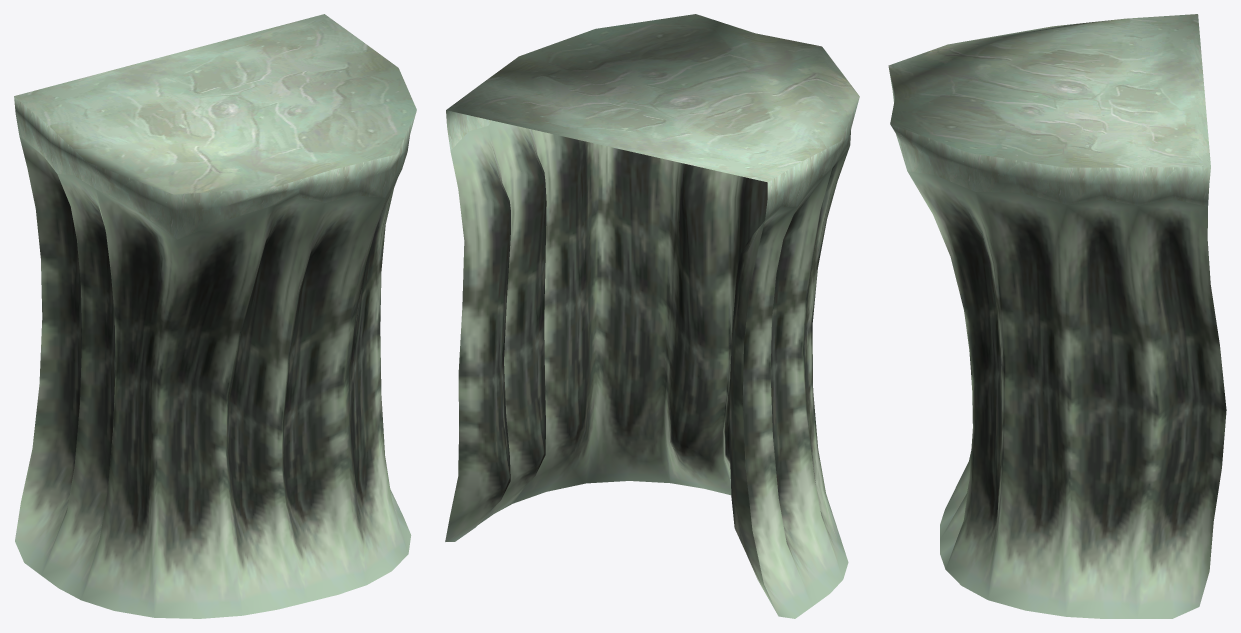
File: TROLLHOLE02_MAINCAVEPLATFORM06B.fbx
3 renders of one model, left to right at view 1: azimuth 30°, elevation 25°; view 2: azimuth 150°, elevation 25°; view 3: azimuth 270°, elevation 25°, orthographic.
Visible parts, largest first — view 1: TROLLHOLE02_MAINCAVEPLATFORM06B; view 2: TROLLHOLE02_MAINCAVEPLATFORM06B; view 3: TROLLHOLE02_MAINCAVEPLATFORM06B.
Boxes of the visible parts, <box> form: TROLLHOLE02_MAINCAVEPLATFORM06B: <box>14,14,416,618</box>; TROLLHOLE02_MAINCAVEPLATFORM06B: <box>445,14,859,618</box>; TROLLHOLE02_MAINCAVEPLATFORM06B: <box>888,14,1226,618</box>.
Bounding box in the file's own units: 33218 × 42531 × 29180.
2 materials, 2 textured.
